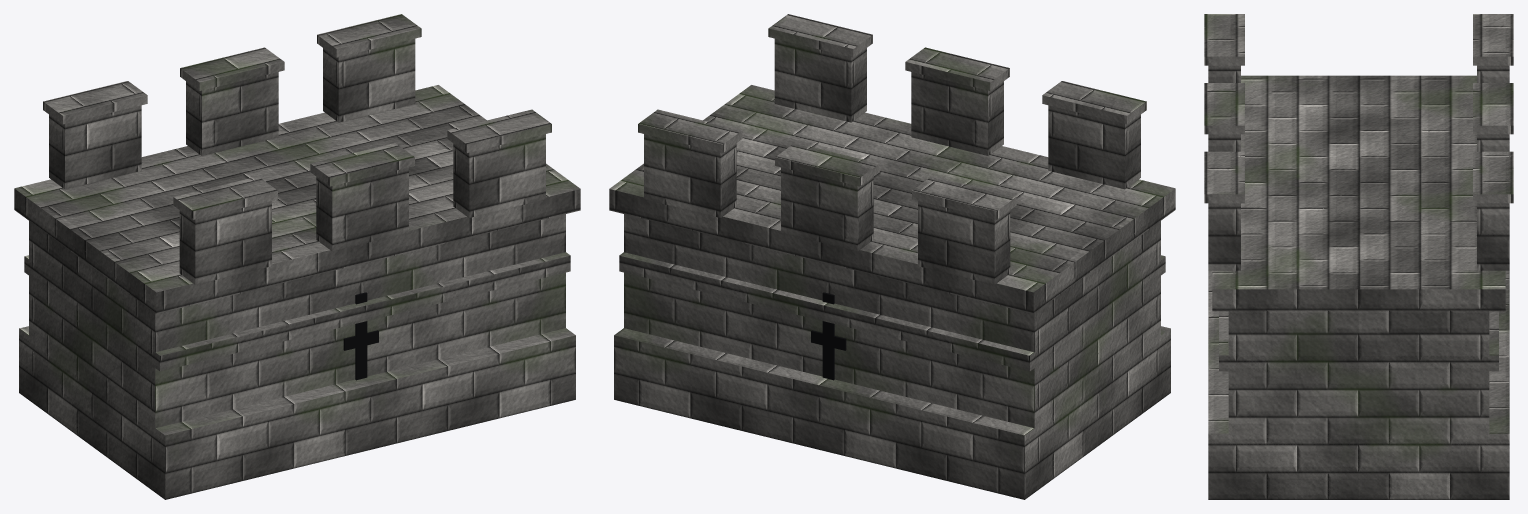
Rendered from lintel.obj.
The picture shows the model from 3 angles, left to right: view 1: azimuth 30°, elevation 25°; view 2: azimuth 150°, elevation 25°; view 3: azimuth 270°, elevation 25°; orthographic projection. The views are drawn at different scales.
Bounding box in the file's own units: 6.2 × 3.96 × 3.8.
2 materials, 1 textured.
